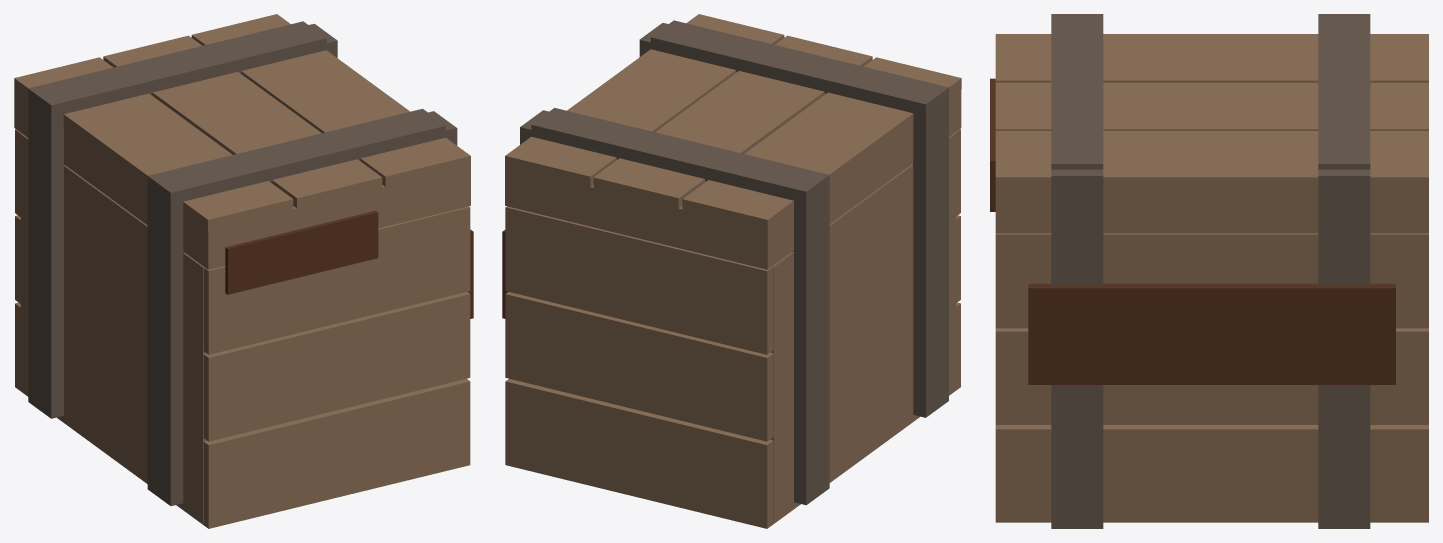
File: Boite_mobile1.fbx
3 renders of one model, left to right at view 1: azimuth 30°, elevation 25°; view 2: azimuth 150°, elevation 25°; view 3: azimuth 270°, elevation 25°, orthographic. The views are drawn at different scales.
Parts seen in each view (by area): view 1: Cube.007; view 2: Cube.007; view 3: Cube.007.
Boxes of the visible parts, box(x1,y1,x2,y2) form: Cube.007: box(14, 14, 473, 528); Cube.007: box(502, 14, 961, 528); Cube.007: box(990, 14, 1428, 528).
Bounding box in the file's own units: 128 × 135 × 149.
